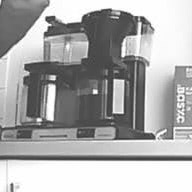empty coffee: (18, 67, 74, 128)
not empty coffee: (76, 66, 135, 129)
